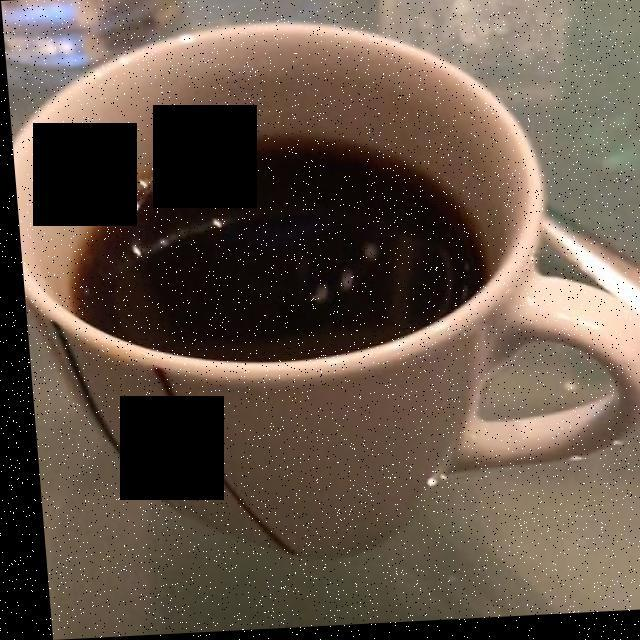coffee: (70, 137, 483, 356)
